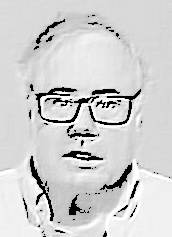nose_M_C: (65, 108, 100, 147)
